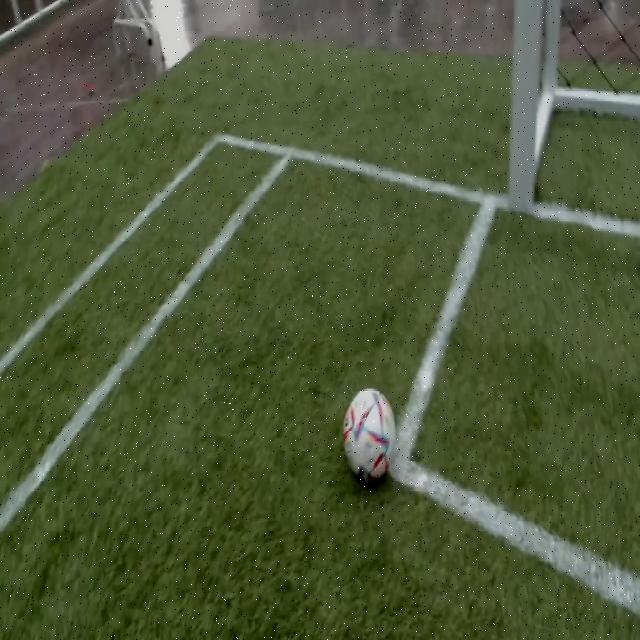ball: (344, 388, 394, 484)
goalpost: (502, 110, 544, 221)
